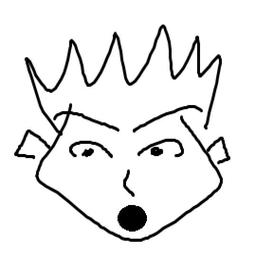eye: (64, 134, 115, 160), (136, 135, 186, 160)
frowning_eyebrow: (131, 100, 204, 130), (51, 107, 122, 132)
open_mouth: (113, 201, 150, 236)
pointy_nose: (119, 165, 140, 196)
